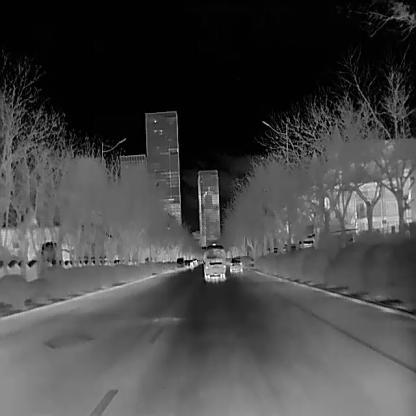car: (202, 242, 226, 280), (228, 257, 242, 272), (176, 257, 184, 268), (191, 257, 198, 267), (183, 258, 189, 269), (189, 259, 193, 268)
